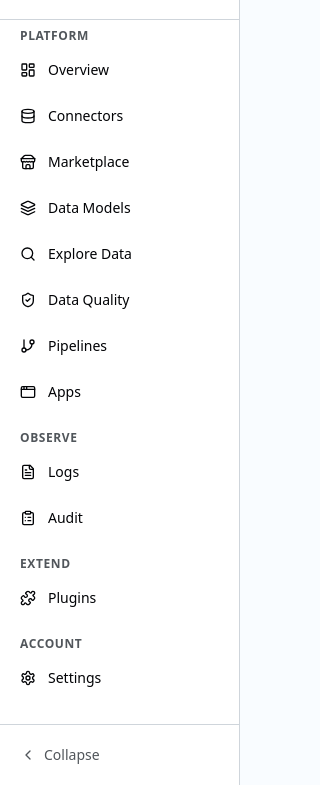
Test case: Sidebar › collapse toggle › restores expanded state after toggling twice
The width and height of the screenshot is (320, 785).
(page scrolled)
Click the button with aria-label "collapse sidebar" at (120, 755), box x1=8 y1=733 x2=231 y2=777
(page scrolled)
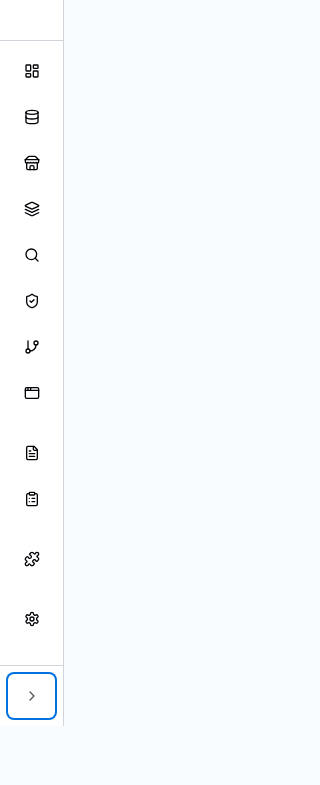
Click the button named "expand sidebar" at (32, 696), box x1=8 y1=674 x2=55 y2=718
(page scrolled)
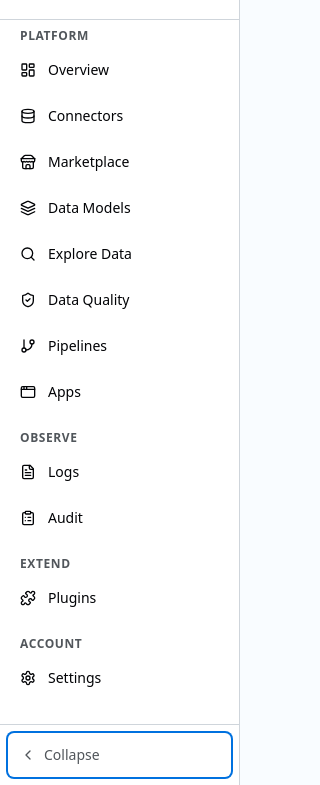
Now the button with aria-label "collapse sidebar" is shown, box x1=8 y1=733 x2=231 y2=777
